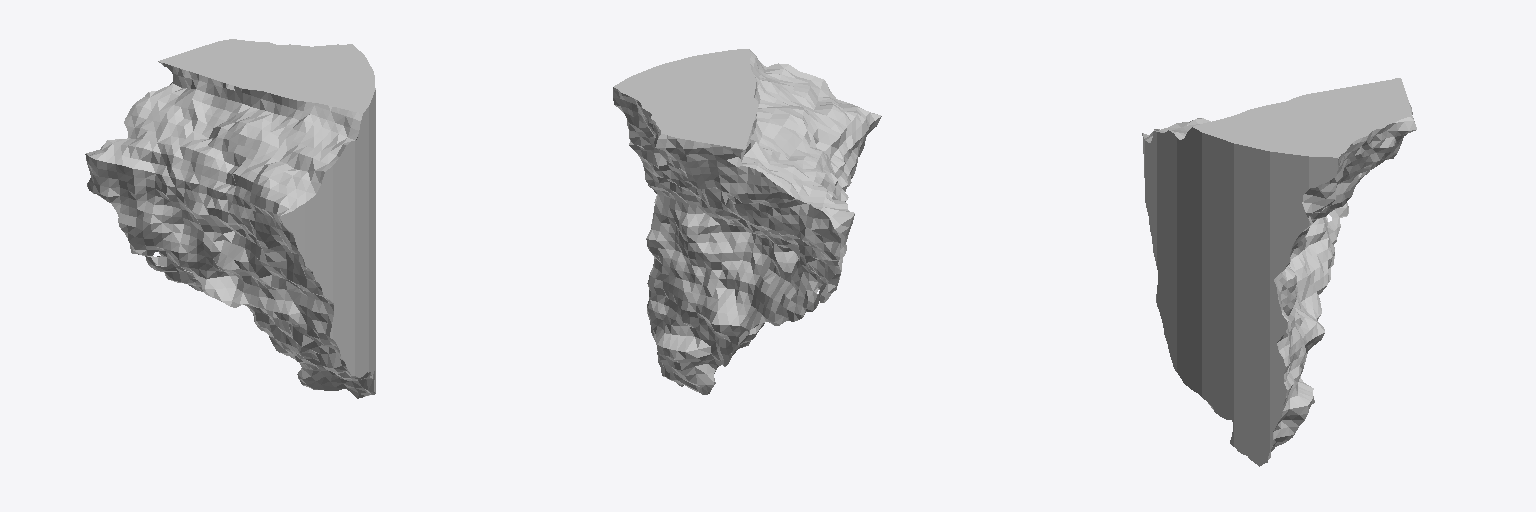
Rendered from Cylinder_shard.004.obj.
3 renders of one model, left to right at view 1: azimuth 30°, elevation 25°; view 2: azimuth 150°, elevation 25°; view 3: azimuth 270°, elevation 25°, orthographic.
Visible parts, largest first — view 1: Cylinder_shard.004_Cylinder_shard.016; view 2: Cylinder_shard.004_Cylinder_shard.016; view 3: Cylinder_shard.004_Cylinder_shard.016.
Boxes of the visible parts, x1=… form: Cylinder_shard.004_Cylinder_shard.016: x1=85, y1=39, x2=375, y2=398; Cylinder_shard.004_Cylinder_shard.016: x1=613, y1=49, x2=881, y2=394; Cylinder_shard.004_Cylinder_shard.016: x1=1142, y1=78, x2=1416, y2=466.
Size of the model in its own units: 1.4 by 1.7 by 1.32.